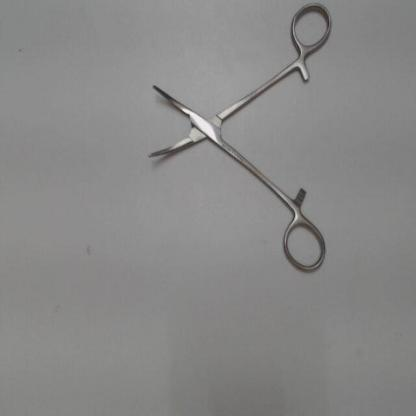Crile Artery Forceps: (143, 0, 333, 283)
